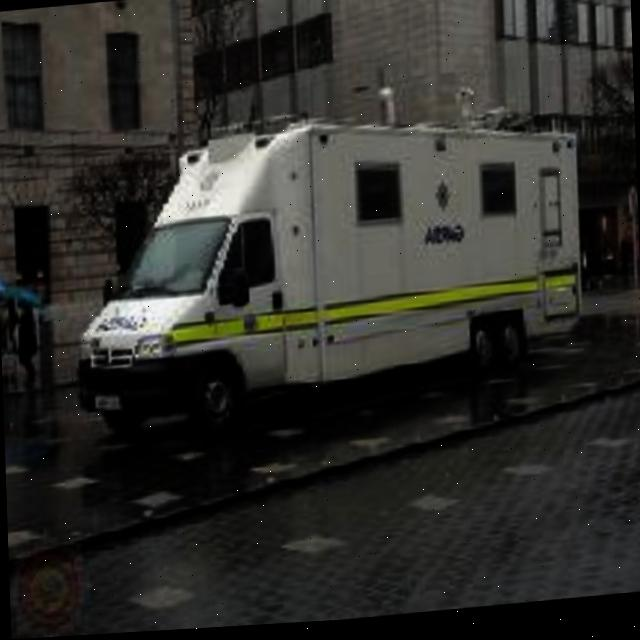emergency: (68, 82, 599, 432)
